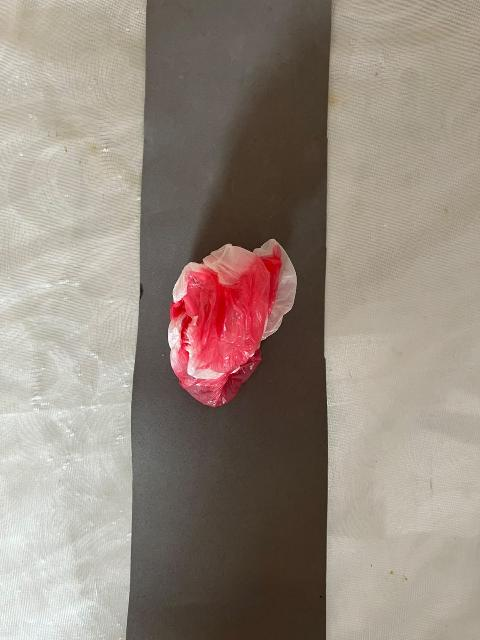LDPE: (109, 183, 369, 499)
